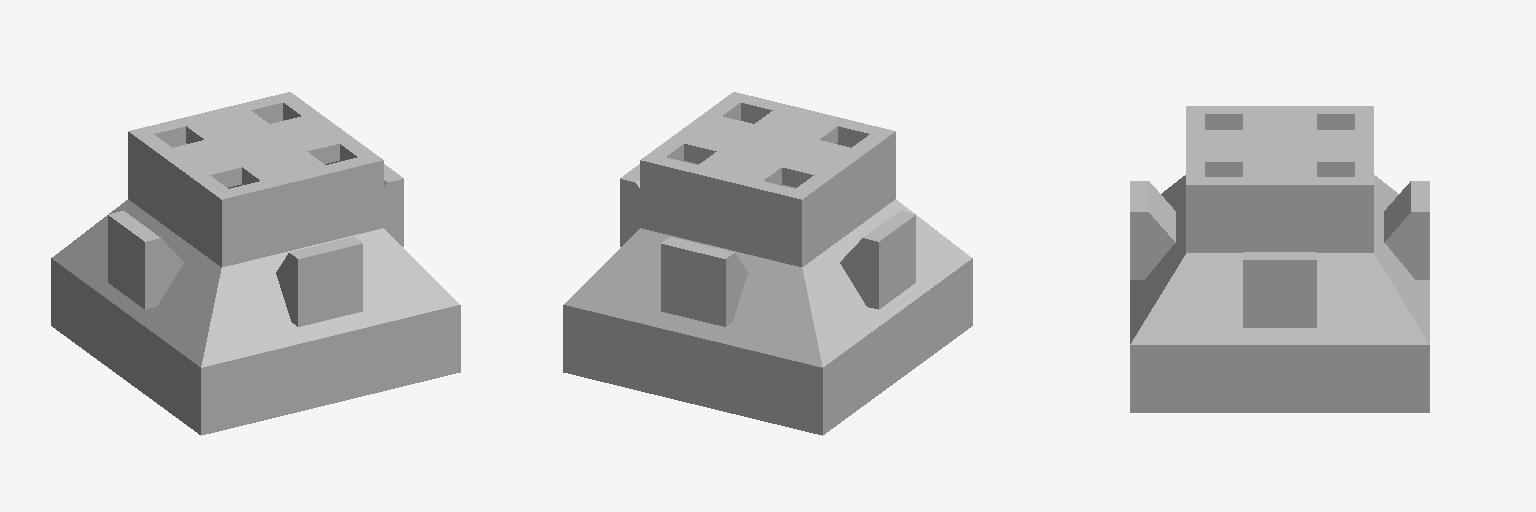
The model's file is containment_field.obj.
3 views of the same model, side by side, from view 1: azimuth 30°, elevation 25°; view 2: azimuth 150°, elevation 25°; view 3: azimuth 270°, elevation 25° (orthographic).
Parts seen in each view (by area): view 1: Base_Cube.006, Corners_Cube.017, Power_Ports_Cube.003, Arm_South_Cube.008, Arm_West_Cube.009, Arm_East_Cube.010, Arm_North_Cube.001; view 2: Base_Cube.006, Corners_Cube.017, Power_Ports_Cube.003, Arm_North_Cube.001, Arm_West_Cube.009, Arm_East_Cube.010, Arm_South_Cube.008; view 3: Base_Cube.006, Power_Ports_Cube.003, Corners_Cube.017, Arm_East_Cube.010, Arm_North_Cube.001, Arm_South_Cube.008, Arm_West_Cube.009.
Part boxes in pixels (x1,y1,x2,y2): Base_Cube.006: (51,124,460,435); Corners_Cube.017: (128,92,383,266); Power_Ports_Cube.003: (108,164,403,326); Arm_South_Cube.008: (242,152,334,255); Arm_West_Cube.009: (156,140,241,246); Arm_East_Cube.010: (270,112,355,164); Arm_North_Cube.001: (177,104,268,143); Base_Cube.006: (563,124,972,435); Corners_Cube.017: (640,92,895,266); Power_Ports_Cube.003: (620,164,915,326); Arm_North_Cube.001: (689,152,781,255); Arm_West_Cube.009: (782,140,867,246); Arm_East_Cube.010: (668,112,753,164); Arm_South_Cube.008: (755,104,846,143); Base_Cube.006: (1130,130,1429,412); Power_Ports_Cube.003: (1130,181,1429,327); Corners_Cube.017: (1186,106,1373,252); Arm_East_Cube.010: (1243,162,1316,251); Arm_North_Cube.001: (1317,130,1373,176); Arm_South_Cube.008: (1186,130,1242,176); Arm_West_Cube.009: (1243,106,1316,129).
Size of the model in its own units: 1 by 0.8125 by 1.